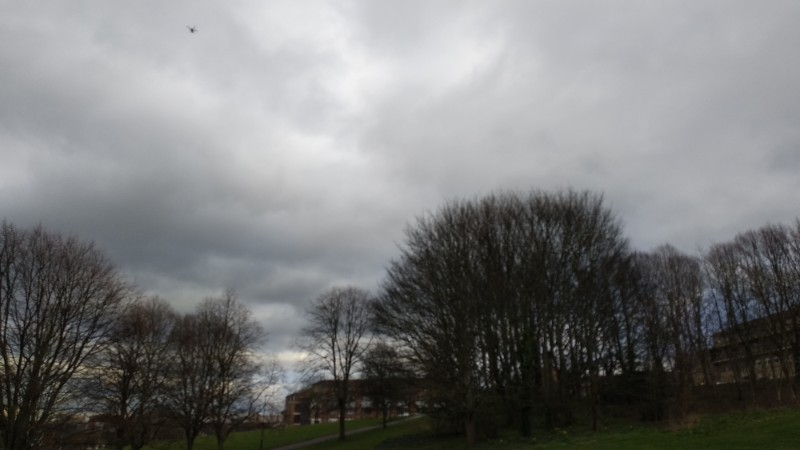drone: (187, 26, 197, 33)
